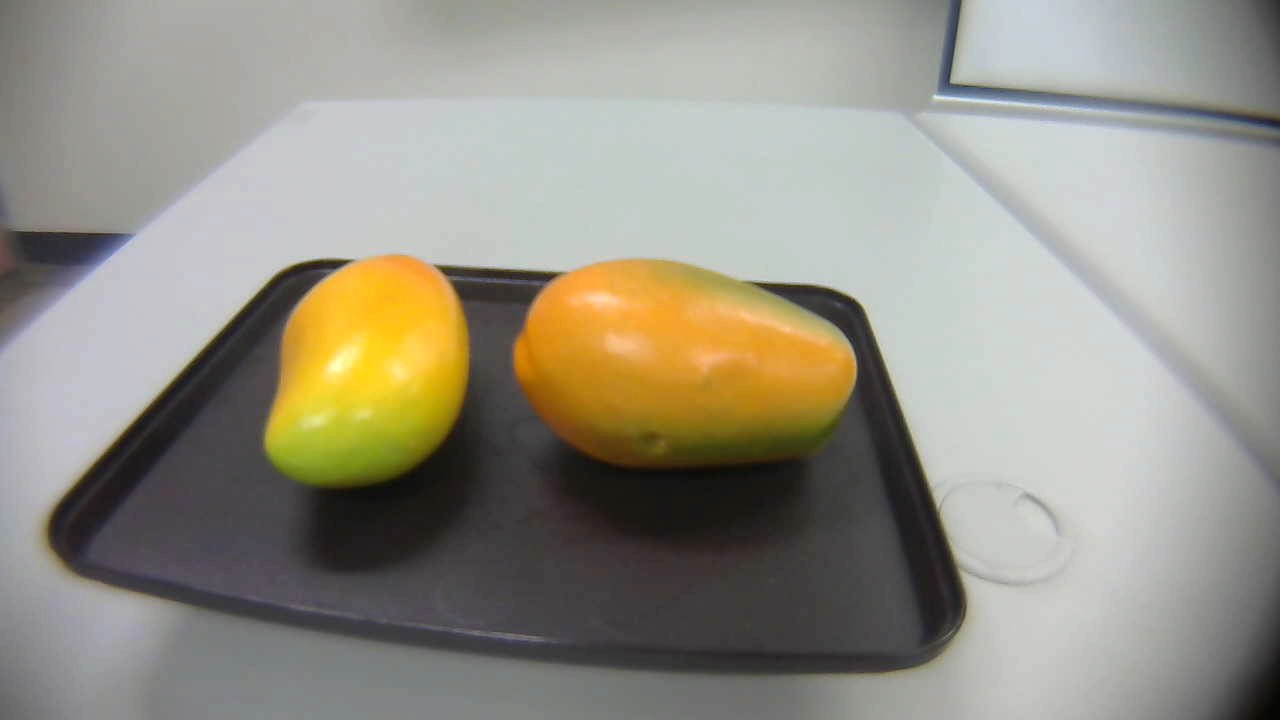papya: (509, 255, 870, 493)
yellow mango: (249, 250, 481, 480)
